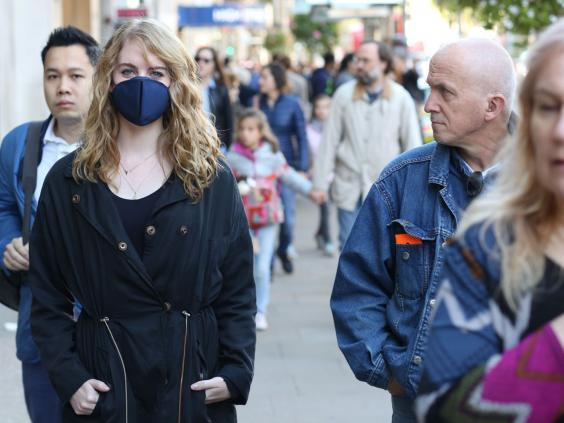Wearing Mask: (96, 14, 197, 146)
